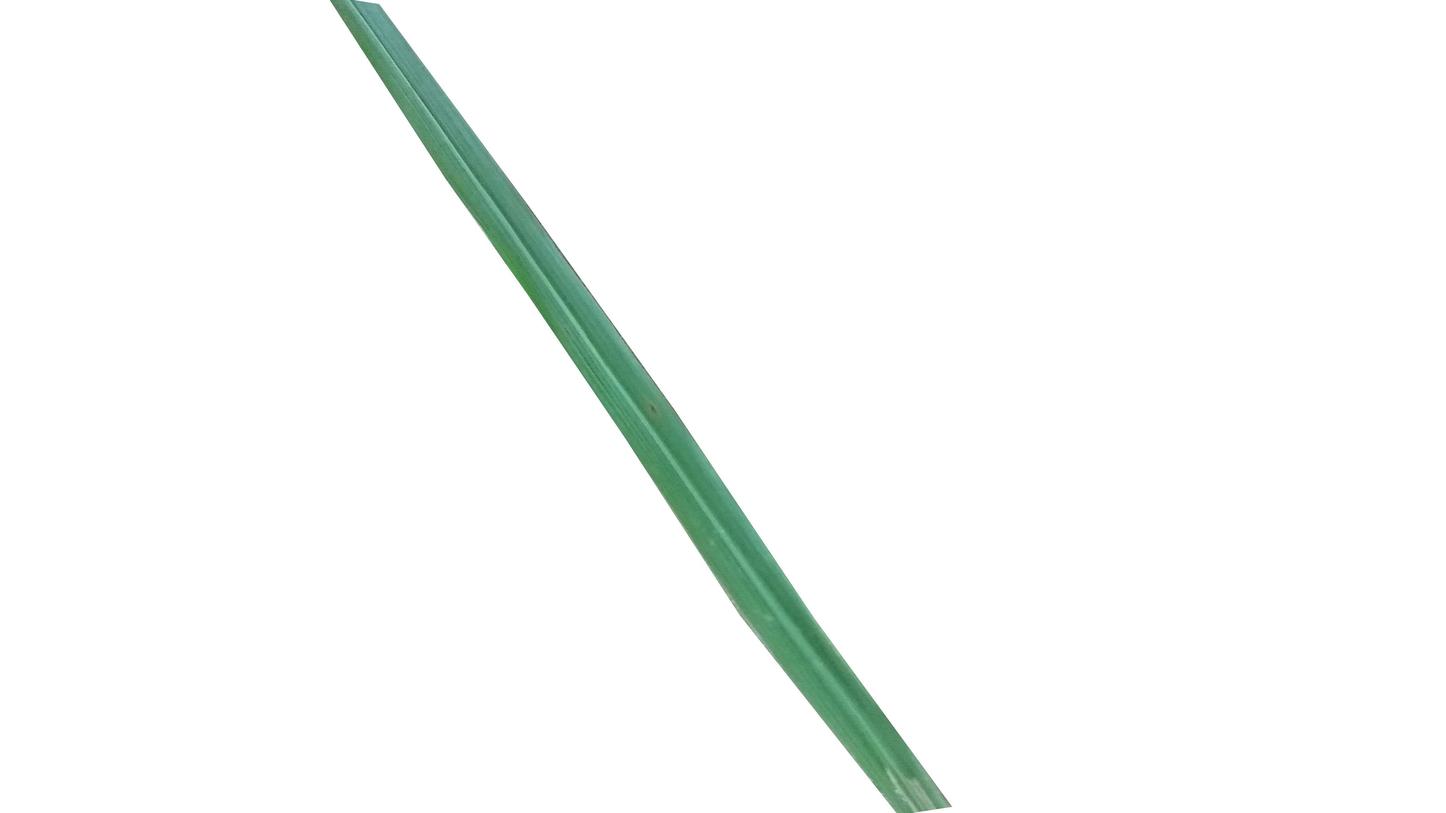Brown spot: (645, 395, 664, 422)
